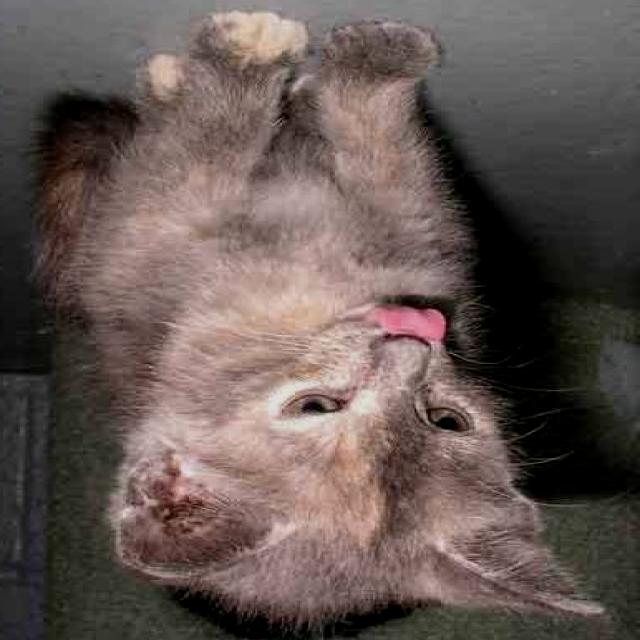Kucing: (14, 0, 626, 637)
